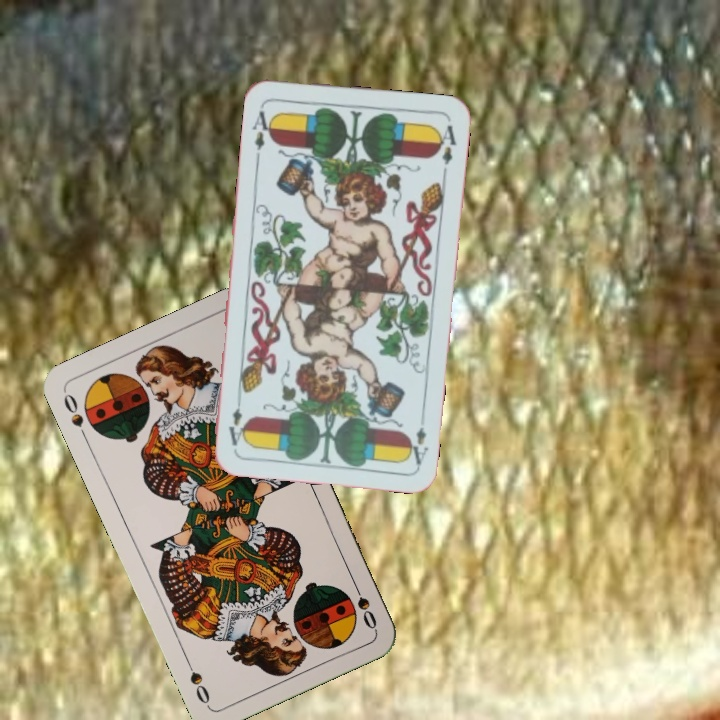EA: (248, 102, 277, 161), (403, 423, 430, 468)
SO: (348, 576, 380, 632), (59, 389, 91, 444)
